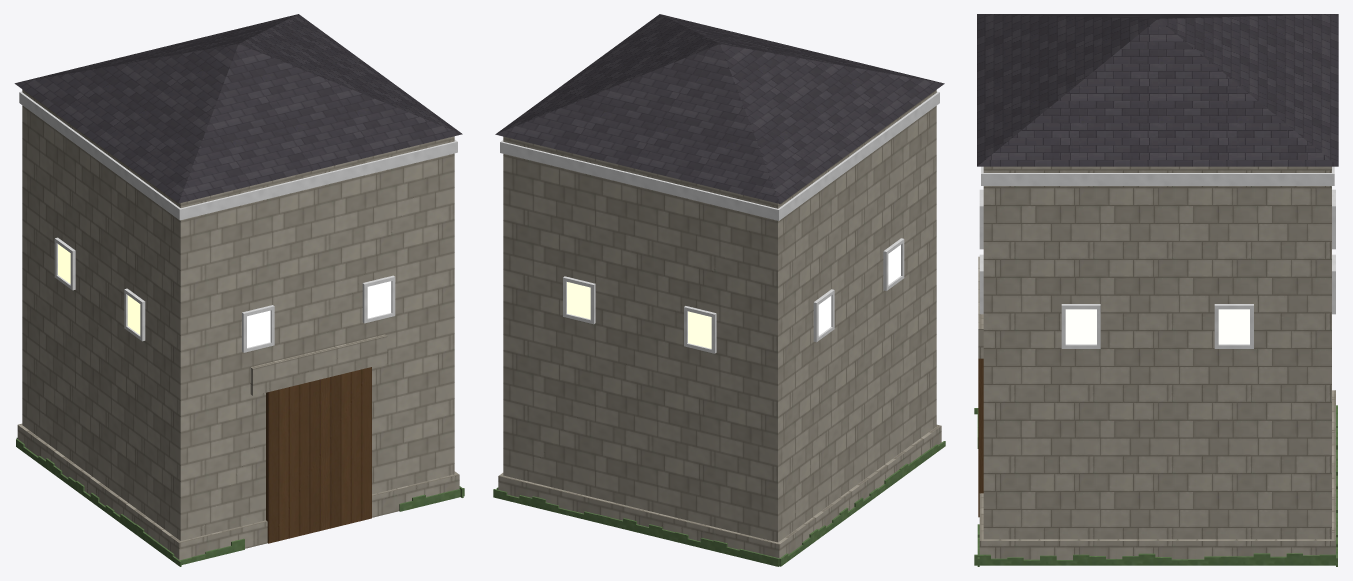
File: keep.t2.glb
The picture shows the model from 3 angles, left to right: view 1: azimuth 30°, elevation 25°; view 2: azimuth 150°, elevation 25°; view 3: azimuth 270°, elevation 25°; orthographic projection. The views are drawn at different scales.
Parts seen in each view (by area): view 1: castle.keep.t2; view 2: castle.keep.t2; view 3: castle.keep.t2.
Part boxes in pixels (x1,y1,x2,y2): castle.keep.t2: [14, 14, 464, 566]; castle.keep.t2: [493, 14, 945, 566]; castle.keep.t2: [974, 14, 1338, 566].
Bounding box in the file's own units: 5.54 × 7.9 × 5.54.
Materials: 6 (5 with a texture image).
